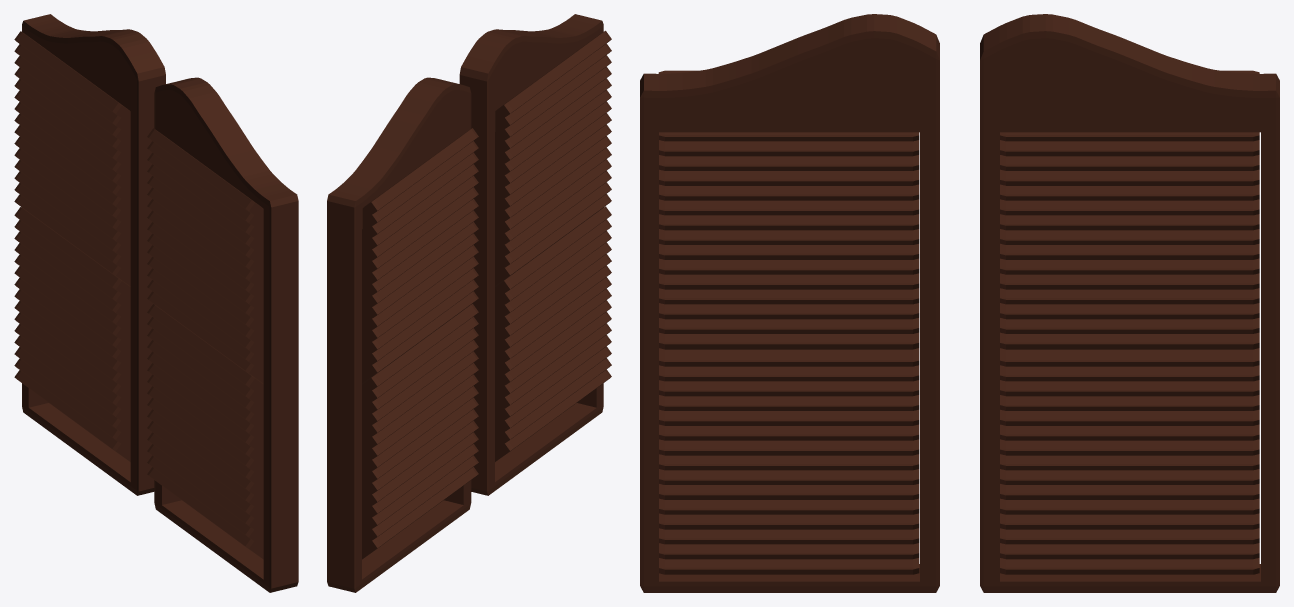
Rendered from SaloonDoorAttempt4.fbx.
3 views of the same model, side by side, from view 1: azimuth 30°, elevation 25°; view 2: azimuth 150°, elevation 25°; view 3: azimuth 270°, elevation 25° (orthographic). The views are drawn at different scales.
Parts seen in each view (by area): view 1: Door1, Door2; view 2: Door2, Door1; view 3: Door1, Door2.
Boxes of the visible parts, x1,y1,x2,y2 form: Door1: (147, 77, 298, 592); Door2: (14, 14, 165, 495); Door2: (327, 77, 478, 592); Door1: (459, 14, 611, 495); Door1: (640, 14, 939, 592); Door2: (980, 14, 1279, 592).
Size of the model in its own units: 22.93 by 219 by 226.
